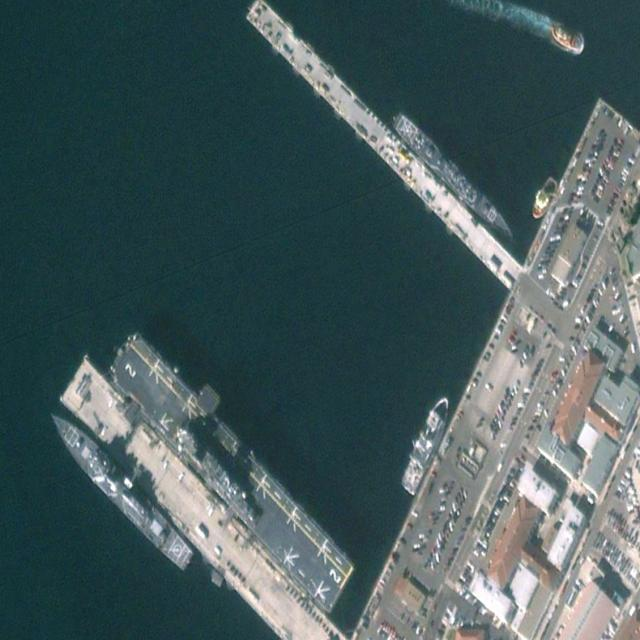Destroyer: (42, 399, 197, 578)
Frigate: (390, 109, 519, 245)
Hovercraft: (527, 171, 561, 223), (548, 17, 586, 54)
Landing: (102, 311, 367, 618)
Other Ship: (396, 389, 456, 497)
